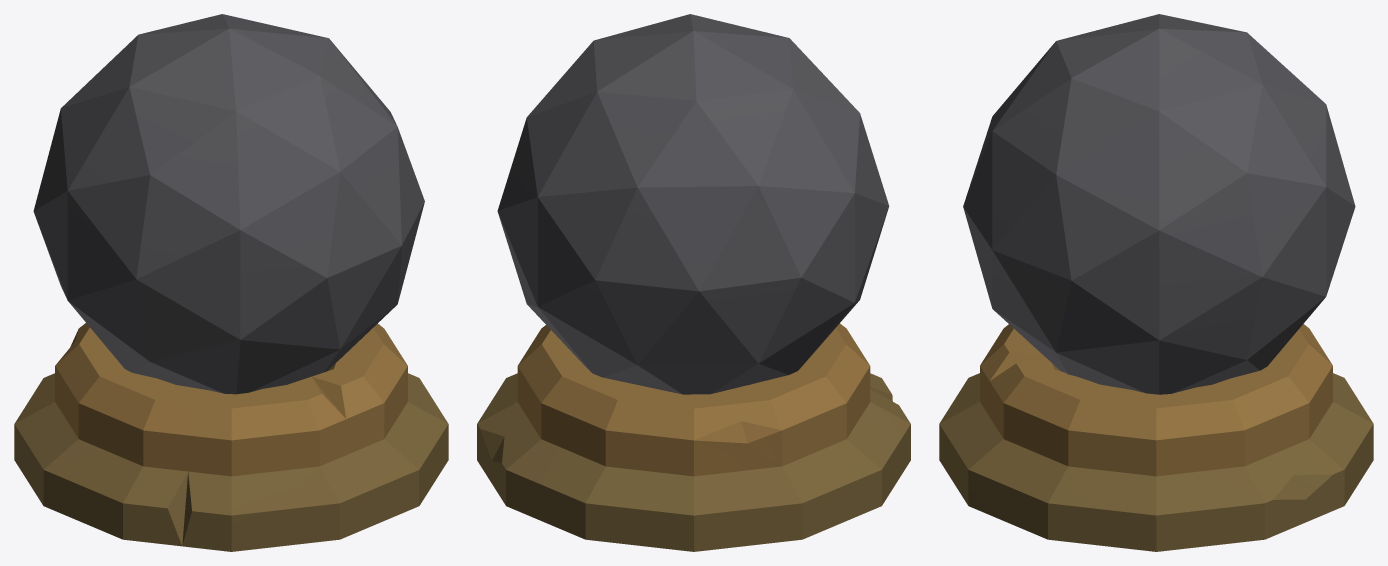
Rendered from crystal-ball.glb.
The picture shows the model from 3 angles, left to right: view 1: azimuth 30°, elevation 25°; view 2: azimuth 150°, elevation 25°; view 3: azimuth 270°, elevation 25°; orthographic projection.
Visible parts, largest first — view 1: SM_Prop_Crystal_Ball_01; view 2: SM_Prop_Crystal_Ball_01; view 3: SM_Prop_Crystal_Ball_01.
Boxes of the visible parts, box(x1,y1,x2,y2) form: SM_Prop_Crystal_Ball_01: box(14, 14, 448, 551); SM_Prop_Crystal_Ball_01: box(477, 14, 910, 551); SM_Prop_Crystal_Ball_01: box(939, 14, 1373, 551).
Size of the model in its own units: 32.79 by 35.91 by 32.79.
1 material, 1 textured.
